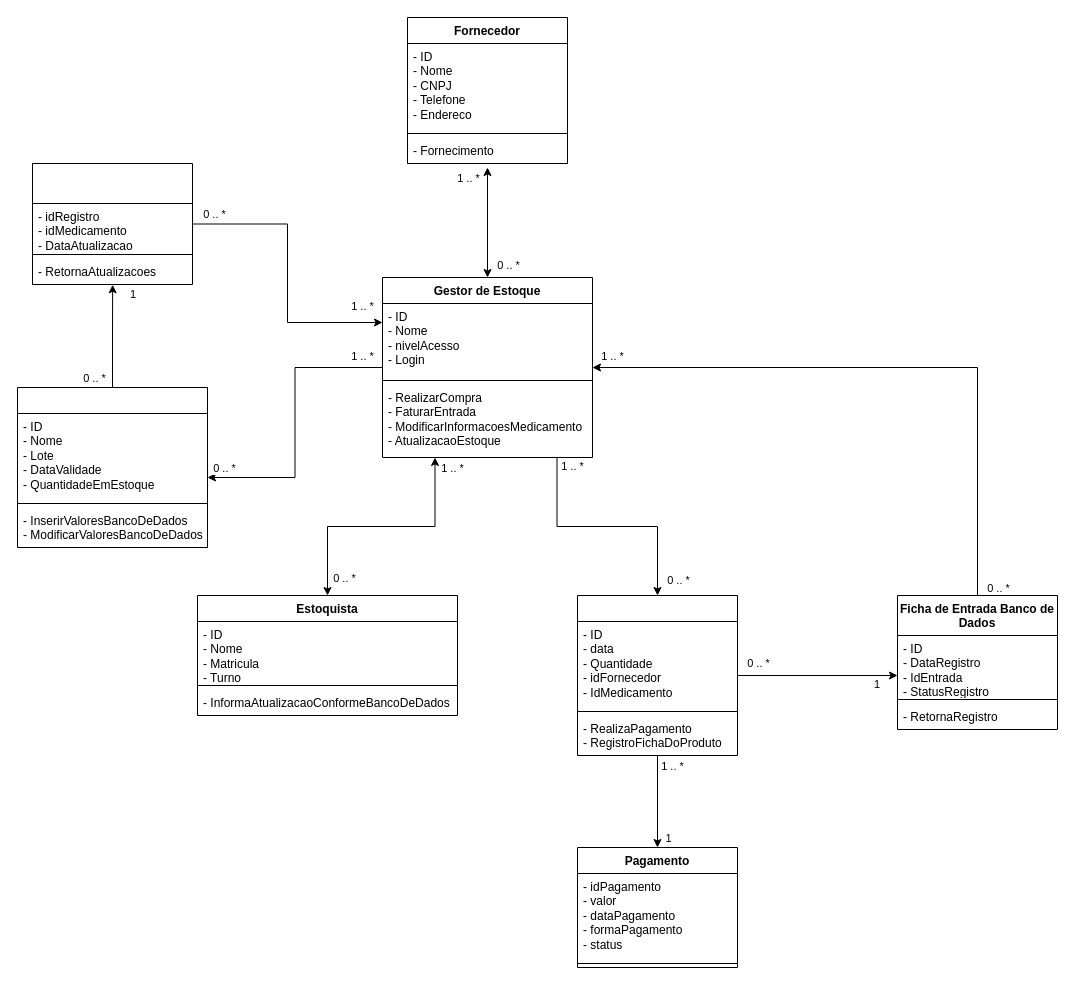
Image size: 1075x985. Some labels were removed from this diagram. Each missing label, with the box of its shape:
Banco de Dados de Medicamento: (32, 162, 192, 284)
Entradas: (576, 594, 738, 756)
Medicamento: (16, 386, 208, 548)
